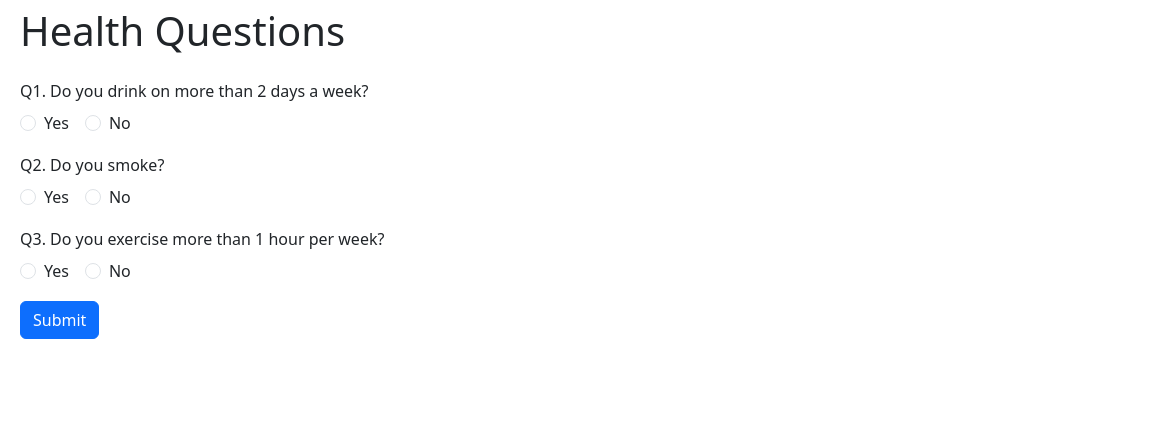
Assessment component › shows waning message for un-healthy responses
Click the 1st radio button labelled "Yes".
click(28, 123)  # box top-left (20, 115), bottom-right (36, 131)
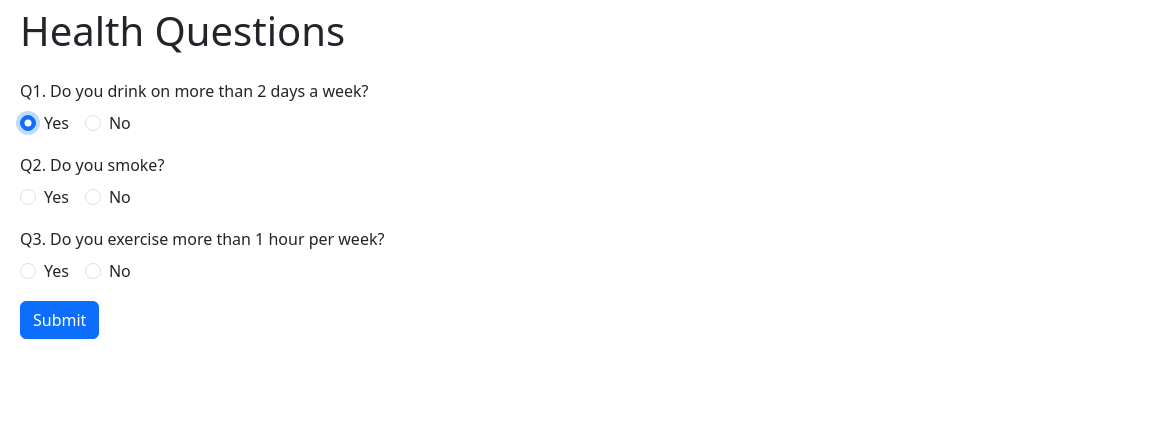
Click the radio button labelled "Yes" below "Q2. Do you smoke?".
click(28, 197)  # box top-left (20, 189), bottom-right (36, 205)
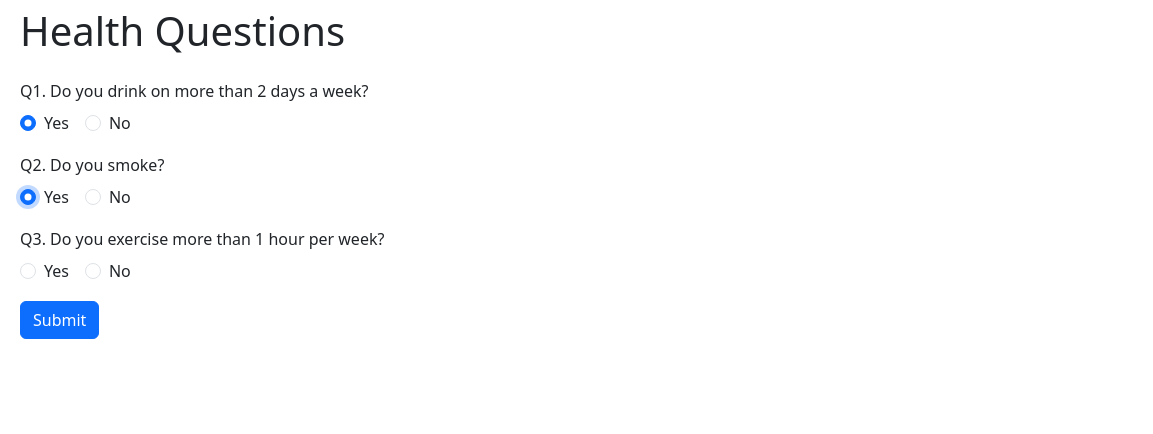
Click the 3rd radio button labelled "No".
click(93, 271)  # box top-left (85, 263), bottom-right (101, 279)
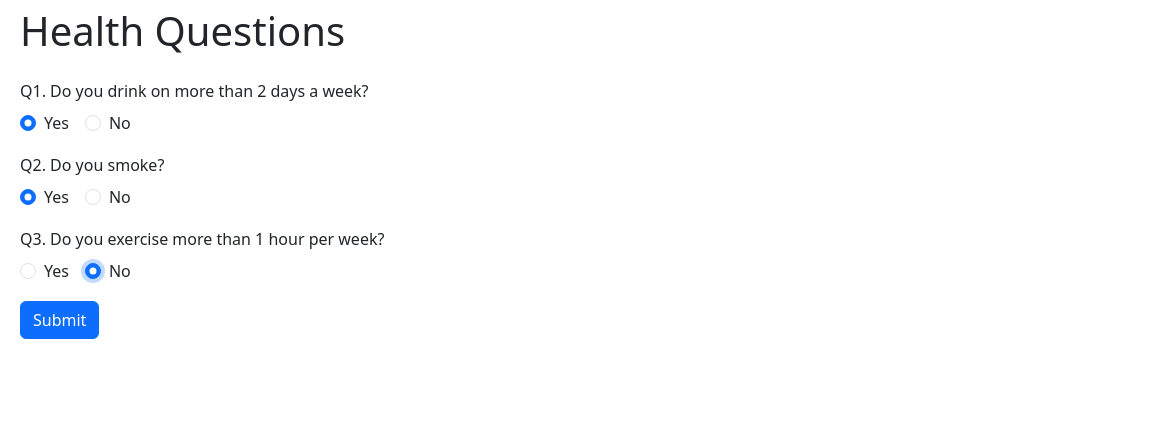
Click the button "Submit".
click(60, 320)  # box top-left (20, 301), bottom-right (99, 339)
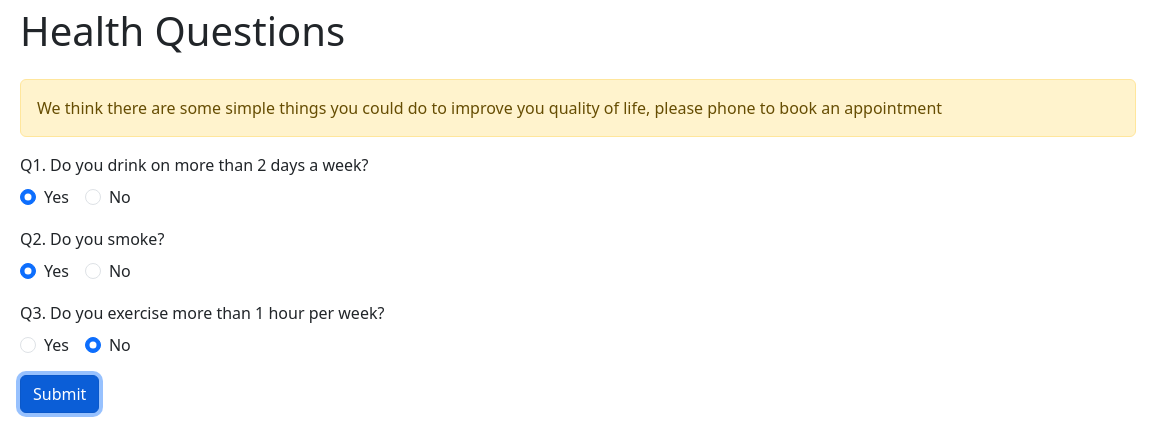
Check: the text "We think there are some simple things you could do to improve you quality of life, please phone to book an appointment" is shown, box top-left (37, 97), bottom-right (942, 119)
